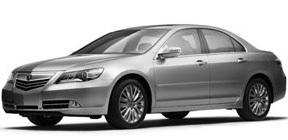car: (2, 24, 288, 129)
